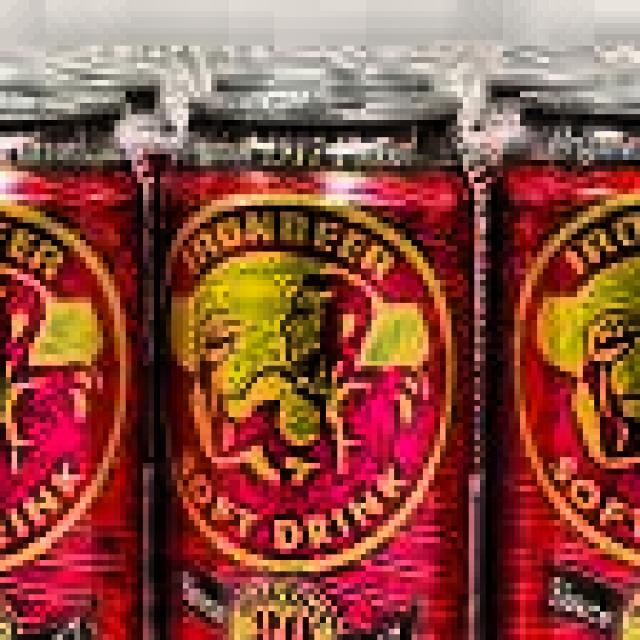metal: (154, 80, 497, 640), (485, 80, 640, 640), (0, 85, 154, 640)
